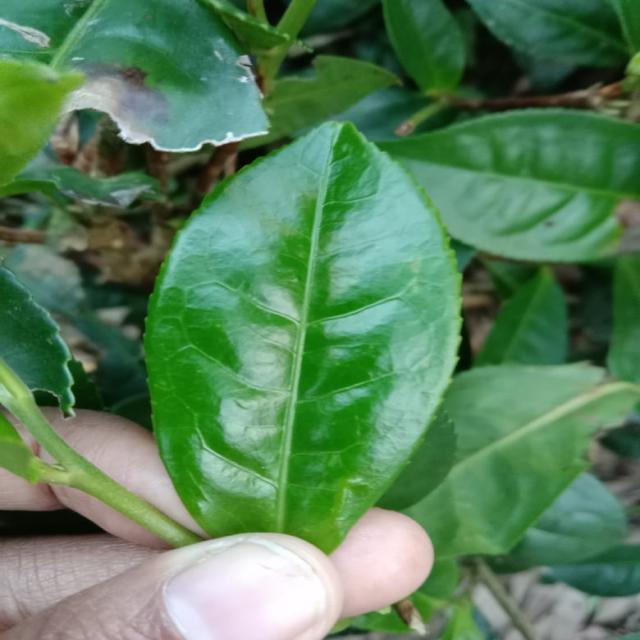Category C 4-7 days: (140, 102, 497, 556)
